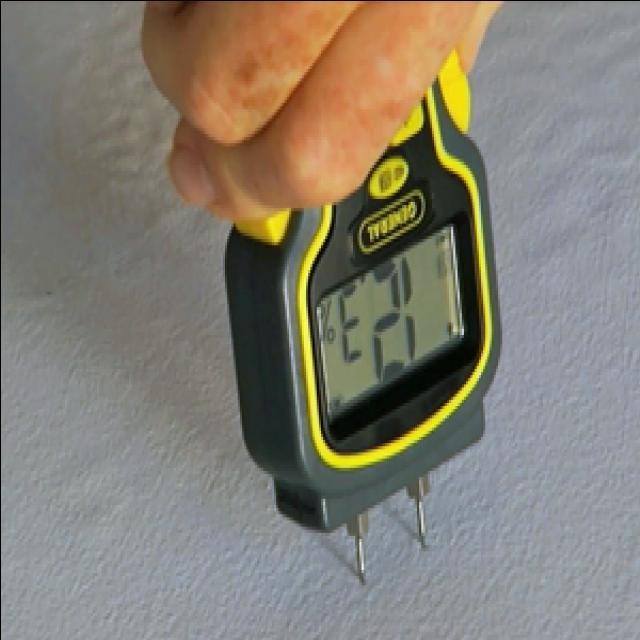leak: (36, 1, 198, 275), (480, 0, 640, 270), (50, 439, 151, 533)
